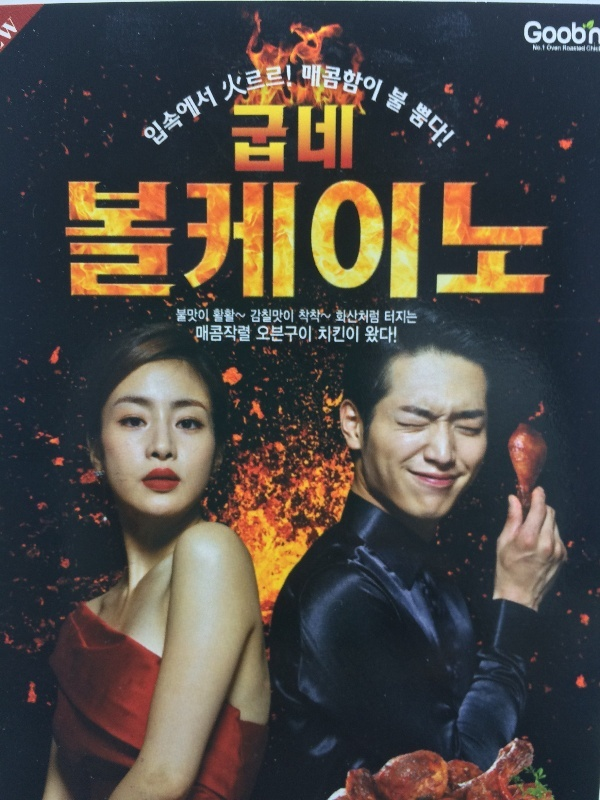text: (65, 180, 80, 299), (81, 180, 96, 299), (97, 180, 112, 299), (113, 180, 128, 299), (129, 180, 144, 299), (145, 180, 160, 299), (161, 180, 176, 299), (177, 180, 192, 299), (193, 180, 208, 299), (209, 180, 224, 299), (225, 180, 240, 299), (241, 180, 256, 299), (257, 180, 272, 299), (273, 180, 288, 299), (289, 180, 304, 299), (305, 180, 320, 299), (321, 180, 336, 299), (337, 180, 352, 299), (353, 180, 368, 299), (369, 180, 384, 299), (385, 180, 400, 299), (401, 180, 416, 299), (417, 180, 432, 299), (433, 180, 448, 299), (449, 180, 464, 299), (465, 180, 480, 299), (481, 180, 496, 299), (497, 180, 512, 299), (513, 180, 528, 299), (529, 180, 544, 299), (241, 103, 256, 174), (257, 103, 272, 174), (273, 103, 288, 174), (289, 103, 304, 174), (305, 103, 320, 174), (321, 103, 336, 174), (337, 103, 352, 174), (145, 82, 160, 151), (161, 82, 176, 151), (177, 82, 192, 151), (193, 82, 208, 151), (417, 97, 432, 151), (433, 97, 448, 151), (209, 82, 219, 151), (305, 61, 320, 105), (321, 61, 336, 105), (337, 61, 352, 105), (353, 61, 368, 105), (369, 61, 384, 105), (231, 103, 240, 174), (1, 13, 16, 55), (545, 180, 550, 299), (225, 71, 240, 102), (257, 65, 272, 94), (273, 65, 288, 94), (529, 21, 544, 47), (545, 21, 560, 47), (561, 21, 576, 47), (577, 21, 592, 47), (449, 97, 456, 151), (244, 65, 256, 94), (401, 82, 410, 117), (321, 326, 336, 345), (337, 326, 352, 345), (353, 326, 368, 345), (369, 326, 384, 345), (209, 326, 224, 344), (225, 326, 240, 344), (257, 326, 272, 343), (273, 326, 288, 343), (289, 326, 304, 343), (393, 82, 400, 117), (177, 308, 192, 324), (193, 308, 208, 324), (225, 308, 240, 324), (257, 308, 272, 324), (273, 308, 288, 324), (62, 180, 64, 299), (385, 326, 397, 345), (305, 310, 320, 325), (401, 311, 417, 325), (196, 326, 208, 344), (337, 311, 352, 325), (353, 311, 368, 325), (385, 311, 400, 325), (141, 82, 144, 151), (241, 71, 247, 102), (593, 21, 600, 47), (241, 326, 251, 344), (213, 308, 224, 324), (321, 310, 332, 325), (369, 311, 380, 325), (545, 43, 560, 53), (561, 43, 576, 53), (577, 43, 592, 53), (220, 71, 224, 102), (533, 43, 544, 53), (297, 310, 304, 325), (524, 21, 528, 47), (305, 326, 311, 343), (302, 61, 304, 105), (289, 65, 292, 94), (17, 13, 19, 55), (251, 308, 256, 324), (289, 308, 294, 324), (353, 103, 354, 174), (593, 43, 600, 53), (241, 308, 245, 324), (318, 326, 320, 345), (335, 311, 336, 325)
